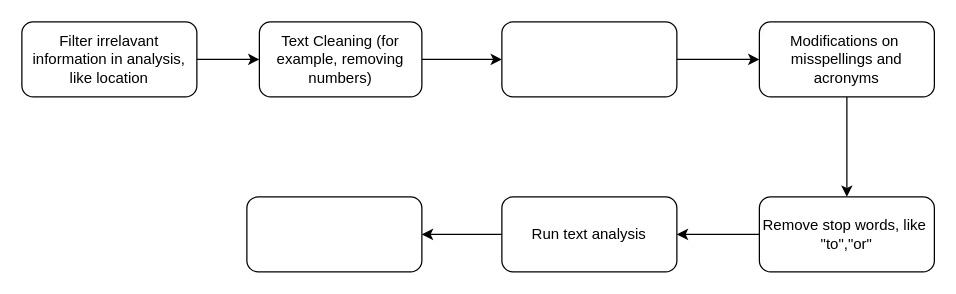
The diagram is 956 pixels wide and 294 high, and some of its shapes have lost their labels. The box of each missing label's shape, as (x1, y1, x2, y2) in pixels:
Tokenization (Vectorization): (501, 21, 677, 97)
Visualization of result: (246, 196, 422, 272)
